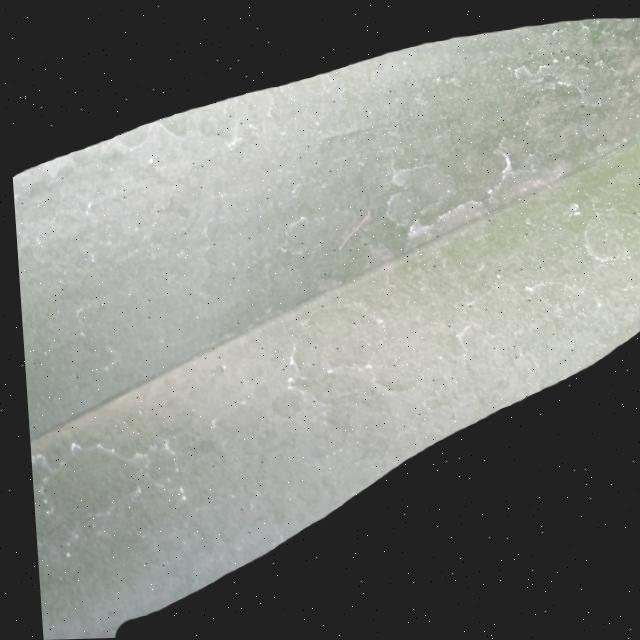mite: (266, 32, 640, 294), (374, 140, 514, 241), (377, 164, 459, 232), (555, 200, 623, 270), (434, 140, 512, 201), (547, 193, 592, 236), (379, 191, 419, 231), (262, 393, 300, 422), (556, 202, 584, 226), (562, 205, 580, 223), (209, 364, 224, 378)
sunburn: (2, 19, 640, 640)
